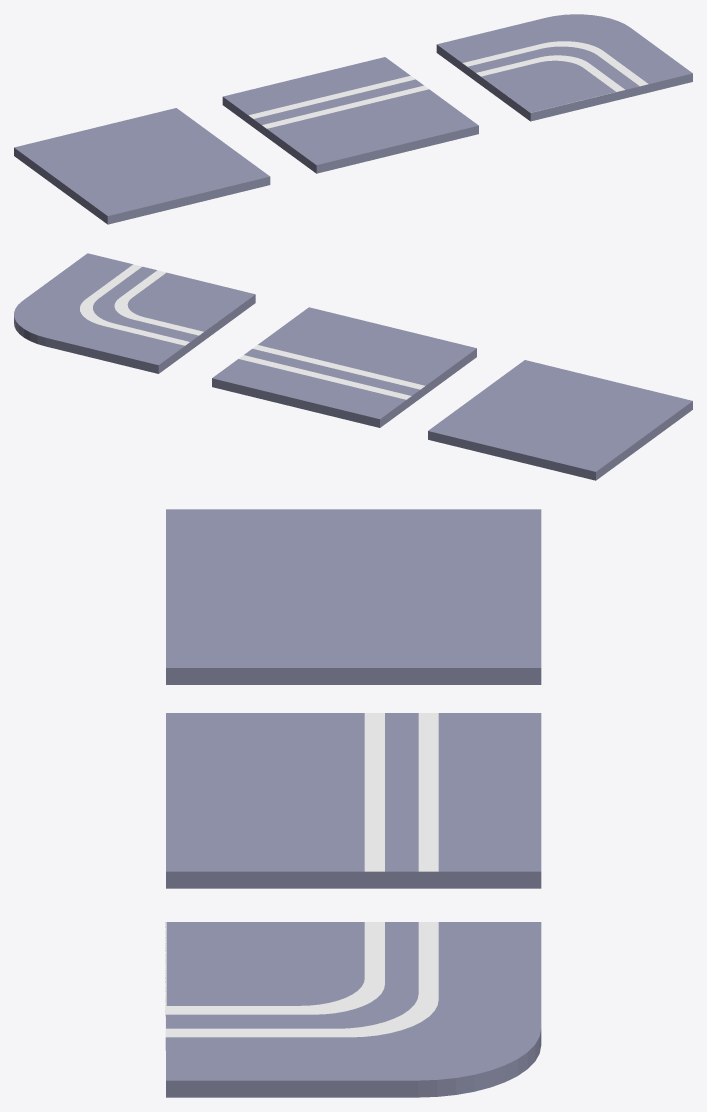
The model's file is tiles.fbx.
The picture shows the model from 3 angles, top to bottom: view 1: azimuth 30°, elevation 25°; view 2: azimuth 150°, elevation 25°; view 3: azimuth 270°, elevation 25°; orthographic projection. The views are drawn at different scales.
Visible parts, largest first — view 1: Plane, Plane.002, Plane.001, Plane.003; view 2: Plane, Plane.002, Plane.001, Plane.003; view 3: Plane, Plane.002, Plane.001, Plane.003.
Boxes of the visible parts, left/top/right/bottom form: Plane: left=14, top=108, right=270, bottom=224; Plane.002: left=436, top=14, right=692, bottom=121; Plane.001: left=222, top=57, right=478, bottom=173; Plane.003: left=249, top=75, right=428, bottom=128; Plane: left=428, top=360, right=692, bottom=480; Plane.002: left=14, top=253, right=255, bottom=373; Plane.001: left=212, top=307, right=476, bottom=427; Plane.003: left=239, top=345, right=425, bottom=399; Plane: left=166, top=509, right=541, bottom=684; Plane.002: left=165, top=922, right=541, bottom=1097; Plane.001: left=166, top=713, right=541, bottom=888; Plane.003: left=364, top=713, right=438, bottom=871.
Bounding box in the file's own units: 360 × 5 × 100.
